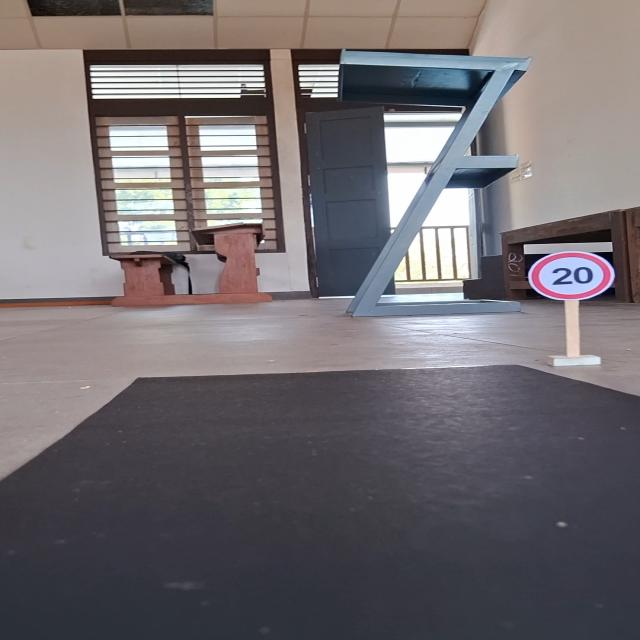Speed20: (522, 248, 620, 302)
